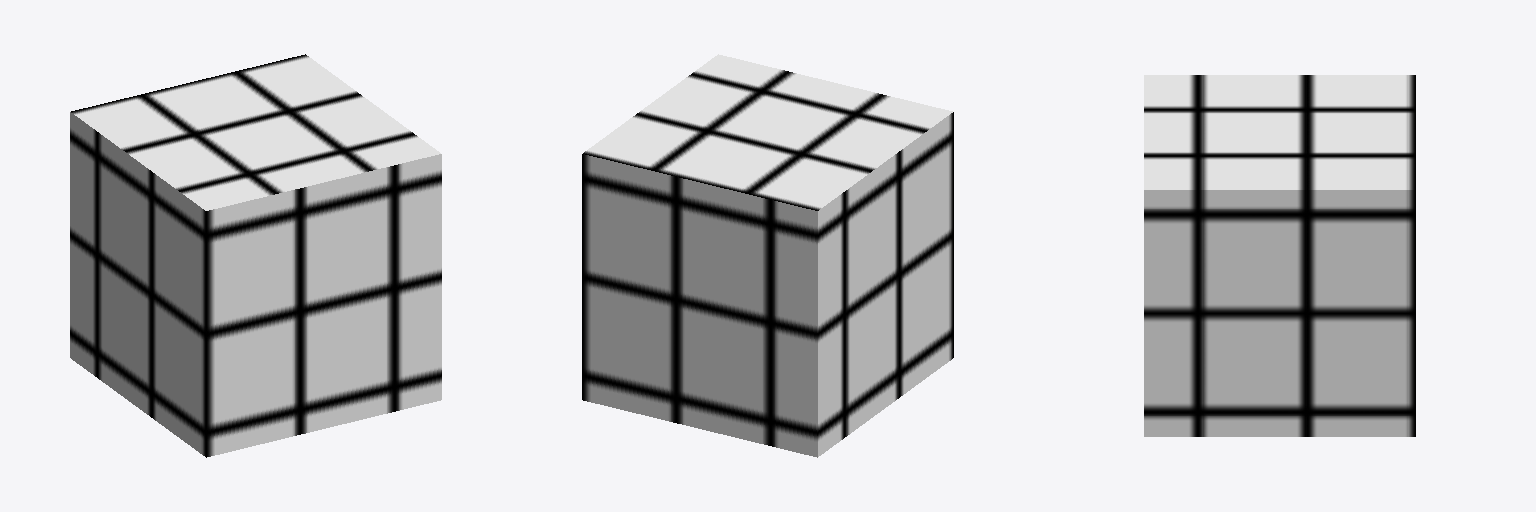
The picture shows the model from 3 angles: view 1: azimuth 30°, elevation 25°; view 2: azimuth 150°, elevation 25°; view 3: azimuth 270°, elevation 25°; orthographic projection.
Visible parts, largest first — view 1: Cube; view 2: Cube; view 3: Cube.
Boxes of the visible parts, x1=… form: Cube: x1=70, y1=54, x2=441, y2=457; Cube: x1=582, y1=54, x2=953, y2=457; Cube: x1=1144, y1=75, x2=1415, y2=436.
Size of the model in its own units: 2 by 2 by 2.
1 materials, 1 textured.